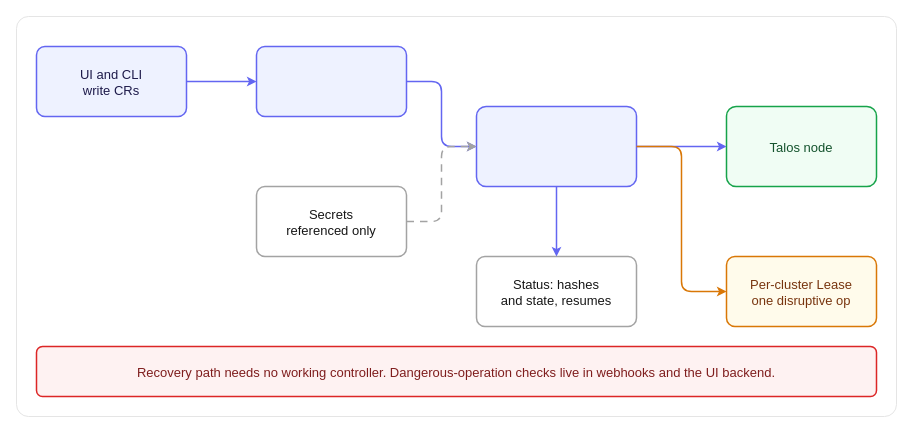
Image size: 913x433. Some labels were removed from this diagram. The centre of each missing label's shape, as x and y in pixels:
"Controller renders on every reconcile" goes at pixel 556 146.
"CRs: versions, patches, values" goes at pixel 331 81.
